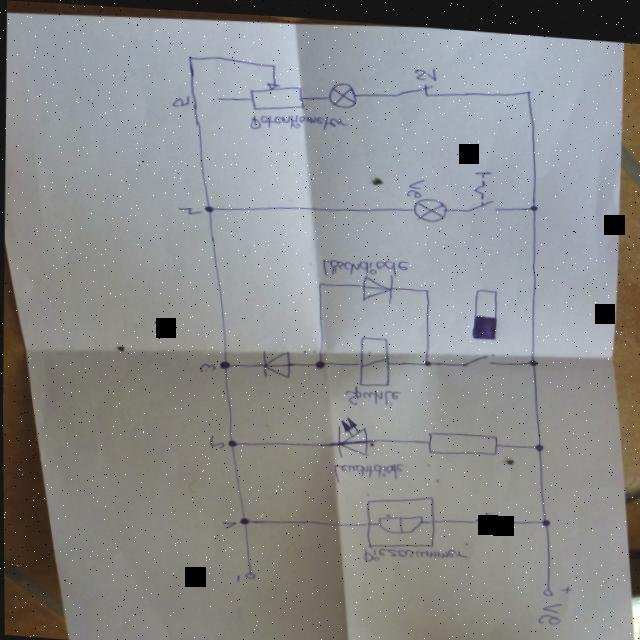diode: (333, 411, 371, 457), (359, 267, 394, 302), (258, 344, 292, 377)
inductor: (356, 329, 391, 385)
junction: (311, 355, 326, 367), (217, 357, 233, 368), (526, 350, 538, 361), (533, 436, 544, 447), (420, 354, 432, 363), (539, 512, 551, 521), (203, 202, 215, 211), (238, 514, 250, 523), (225, 437, 237, 445), (528, 197, 538, 206), (184, 52, 195, 60), (522, 83, 532, 91), (422, 282, 430, 289), (316, 278, 324, 285), (269, 60, 277, 66)
resistor: (247, 75, 307, 111), (425, 425, 498, 454)
switch: (465, 161, 500, 210), (394, 76, 434, 97), (458, 344, 493, 364), (470, 503, 498, 521)
terminal: (540, 581, 554, 592), (243, 567, 256, 577)
text: (362, 537, 468, 564), (319, 248, 411, 278), (247, 107, 349, 134), (332, 454, 406, 484), (343, 382, 401, 403), (537, 595, 563, 620), (404, 173, 423, 194), (413, 62, 435, 79), (170, 92, 190, 107), (177, 201, 199, 214), (206, 433, 225, 447), (197, 360, 216, 371), (219, 517, 236, 528)
